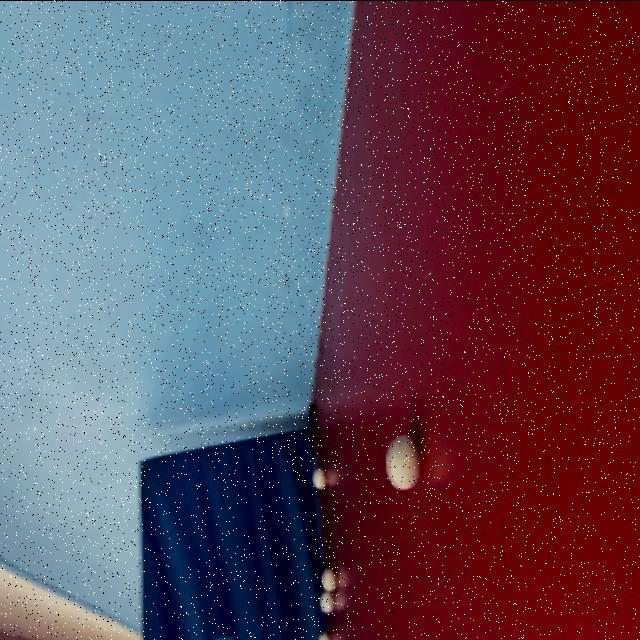ping-pong-ball: (378, 420, 424, 499), (314, 552, 342, 598), (316, 582, 340, 622), (306, 463, 329, 495)
